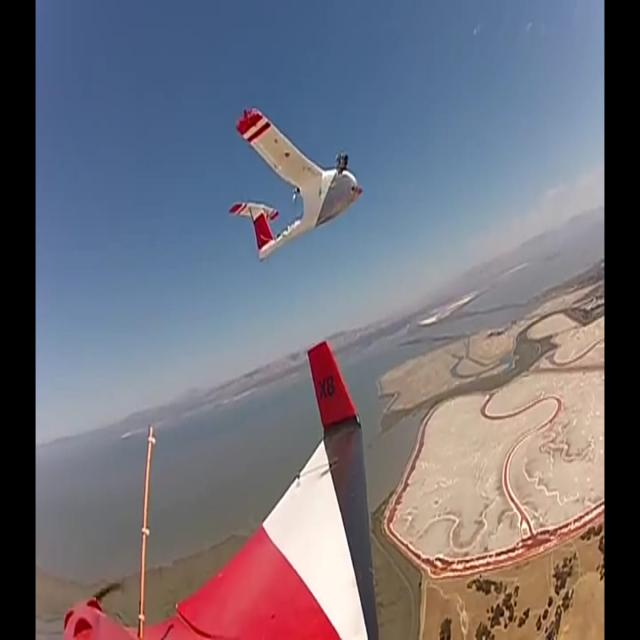iha: (229, 105, 361, 262)
